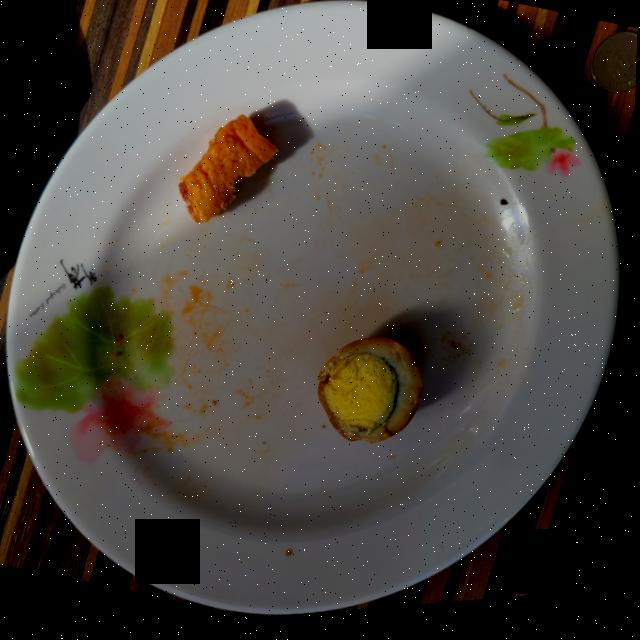coin: (591, 40, 638, 102)
creamy tofu: (180, 118, 279, 225)
soy egg: (320, 342, 425, 449)
